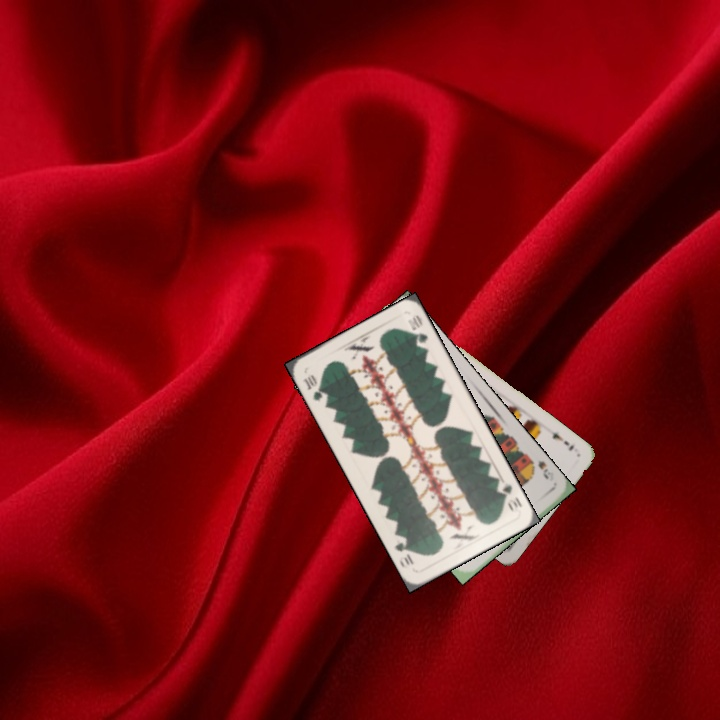E7: (546, 426, 576, 453)
G10: (298, 370, 331, 404), (497, 481, 525, 515)
S9: (524, 454, 551, 482)
